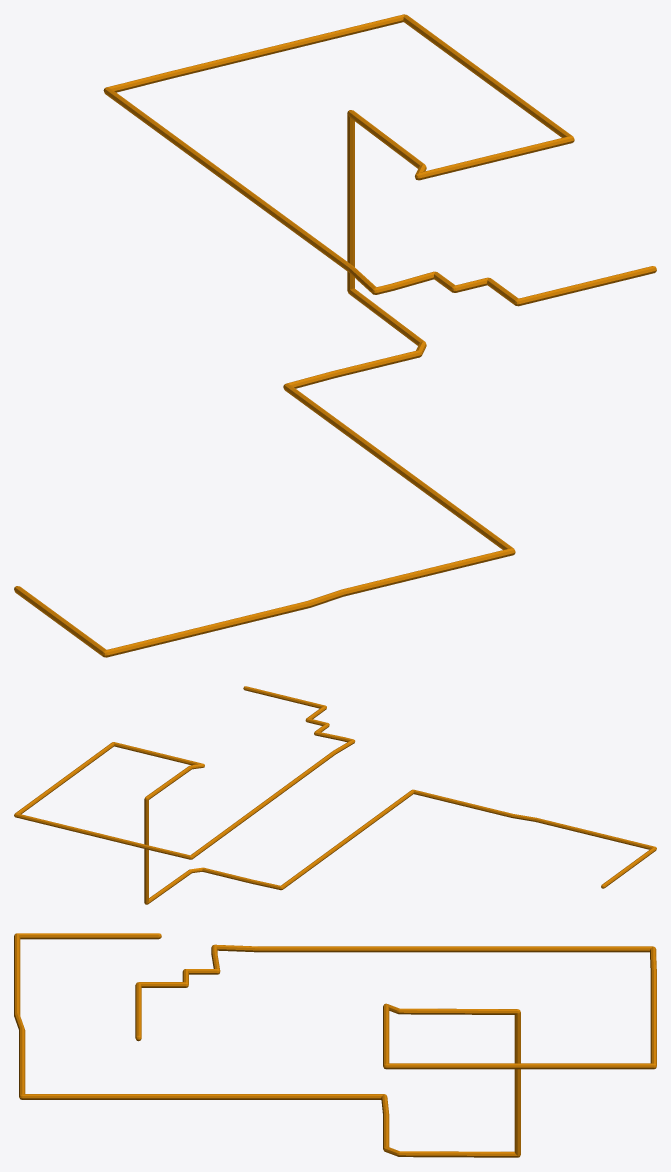
3 renders of one model, top to bottom at view 1: azimuth 30°, elevation 25°; view 2: azimuth 150°, elevation 25°; view 3: azimuth 270°, elevation 25°, orthographic. The views are drawn at different scales.
Size of the model in its own units: 2071 by 520 by 2043.
